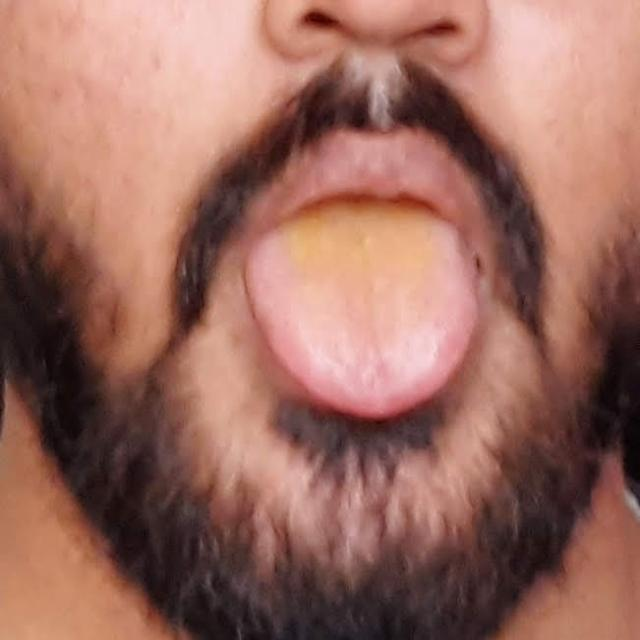discolored_patch: (209, 171, 534, 489)
